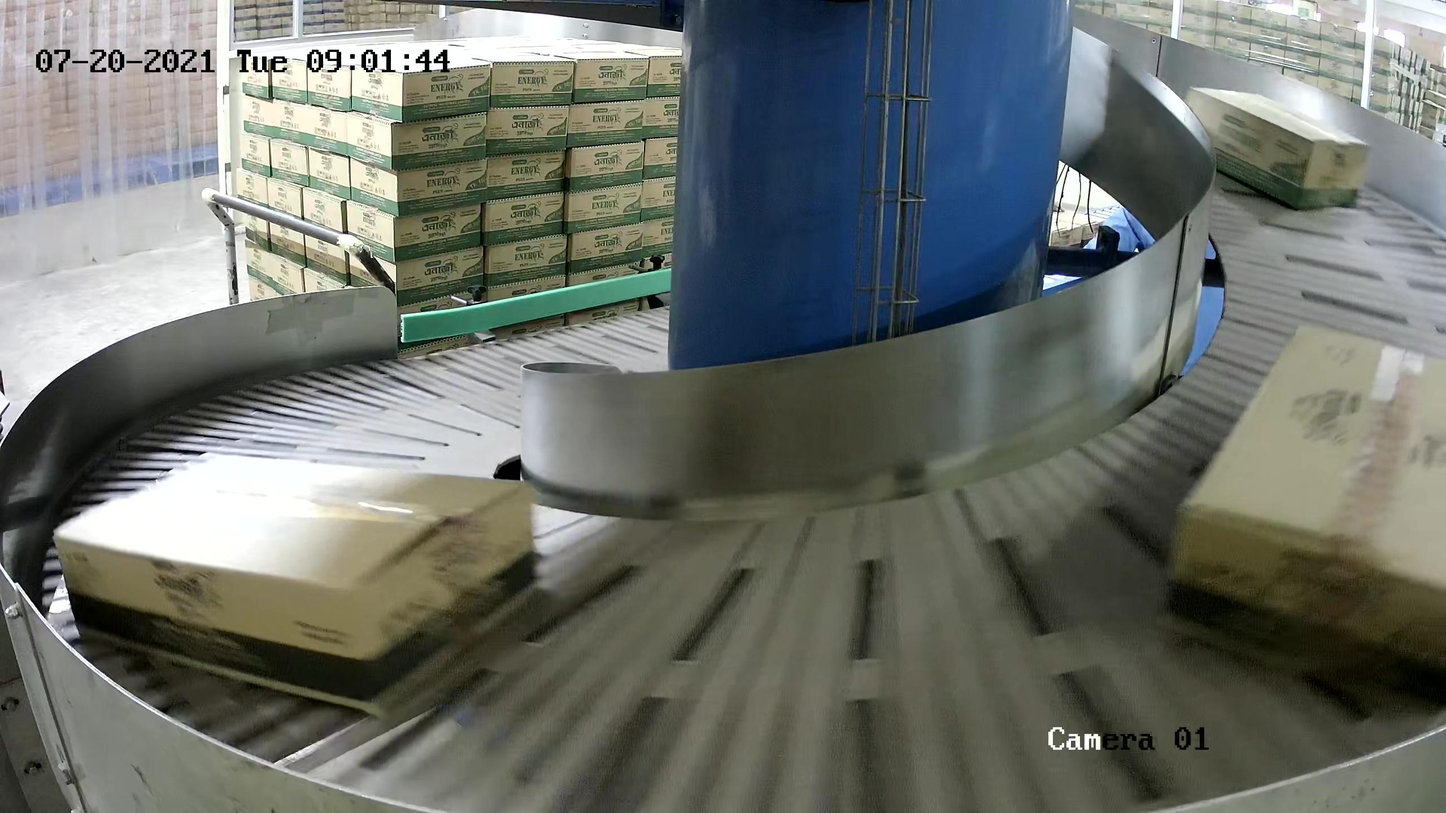Box: (51, 449, 539, 722), (1153, 322, 1446, 702), (1183, 85, 1370, 209)
